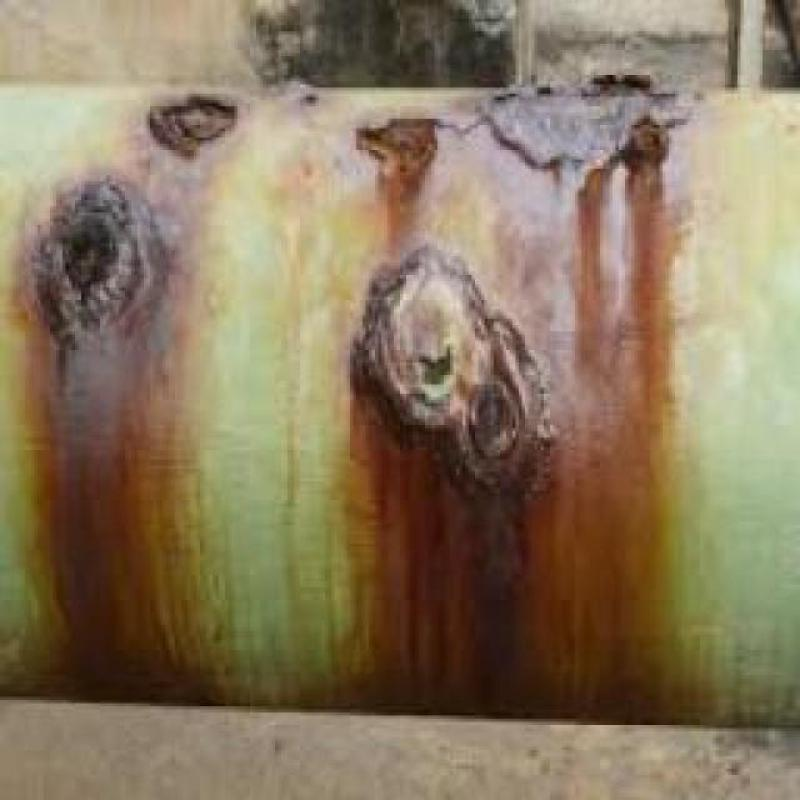corrosion: (370, 454, 658, 716), (46, 348, 174, 707), (579, 172, 665, 411), (28, 209, 157, 307), (364, 115, 444, 190)
